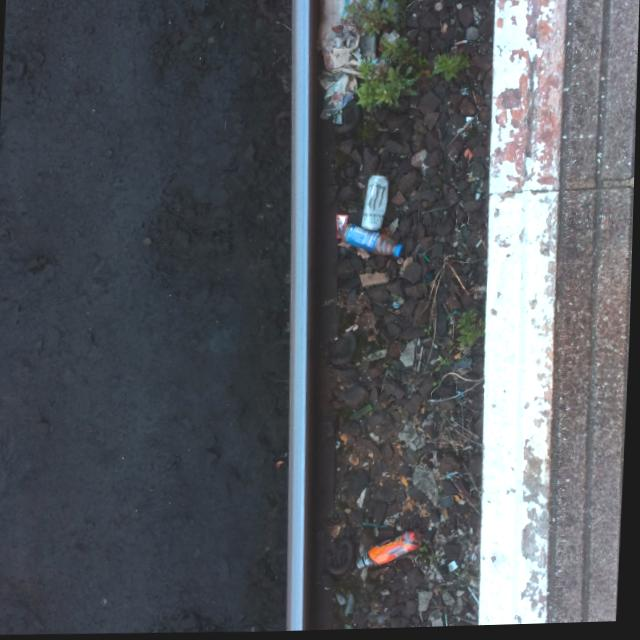Can-Metal: (361, 175, 393, 233)
Plastic: (354, 526, 429, 575), (338, 221, 409, 261)
